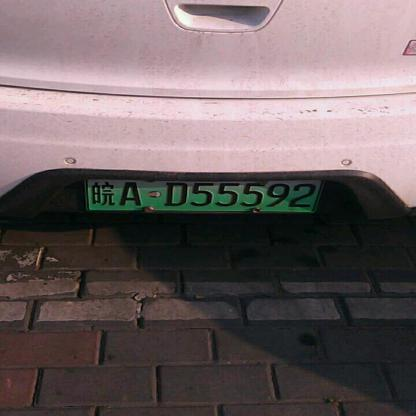lp: (86, 177, 323, 212)
